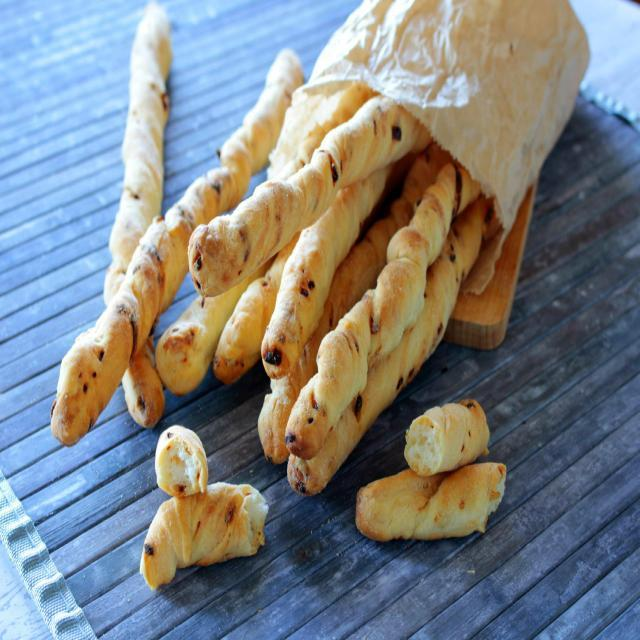Grissini: (69, 6, 489, 567)
